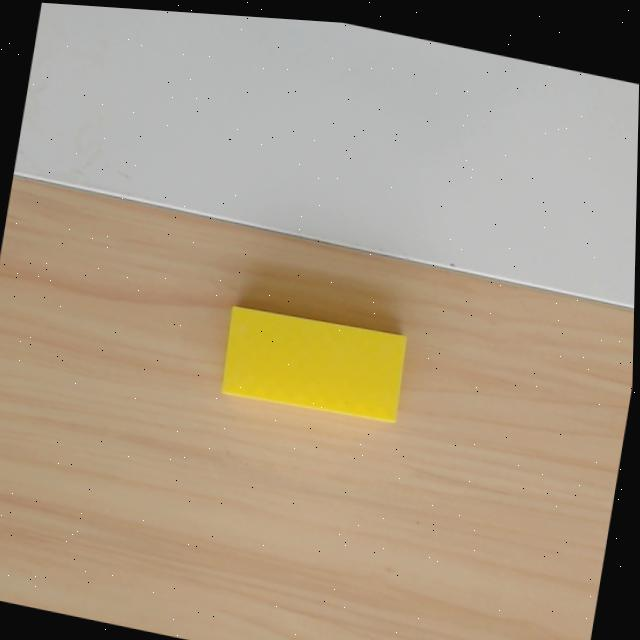Balok-Kuning-1005025: (215, 304, 413, 425)
